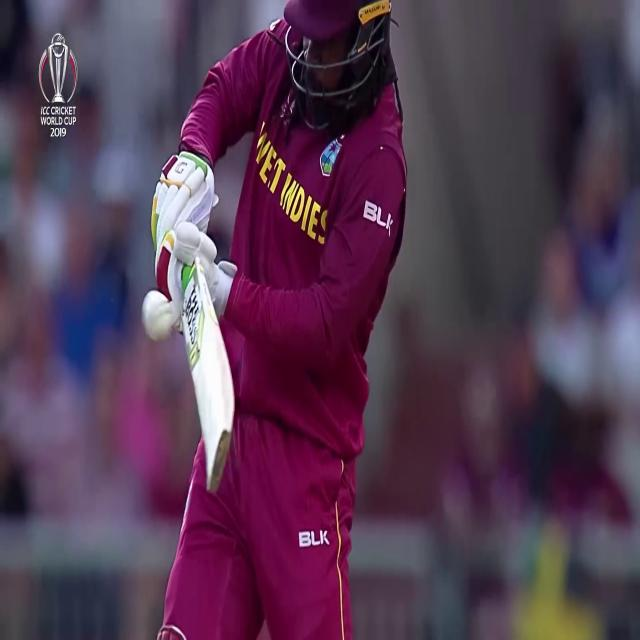ball: (140, 280, 174, 350)
